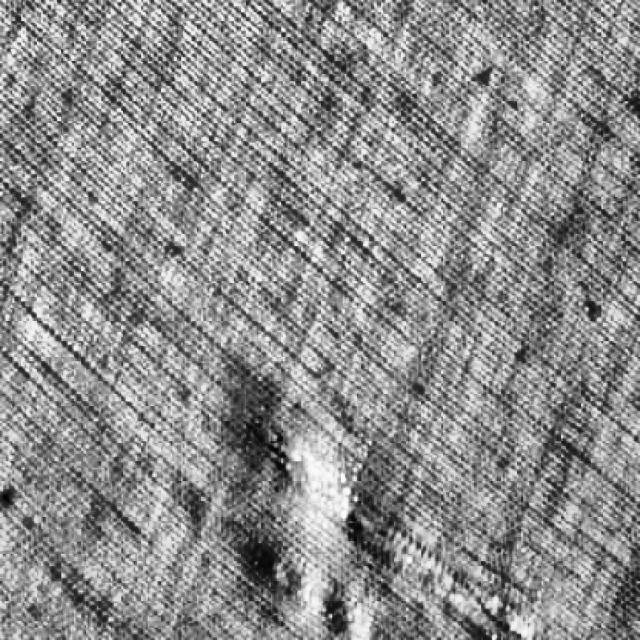thread_error: (252, 412, 548, 640)
